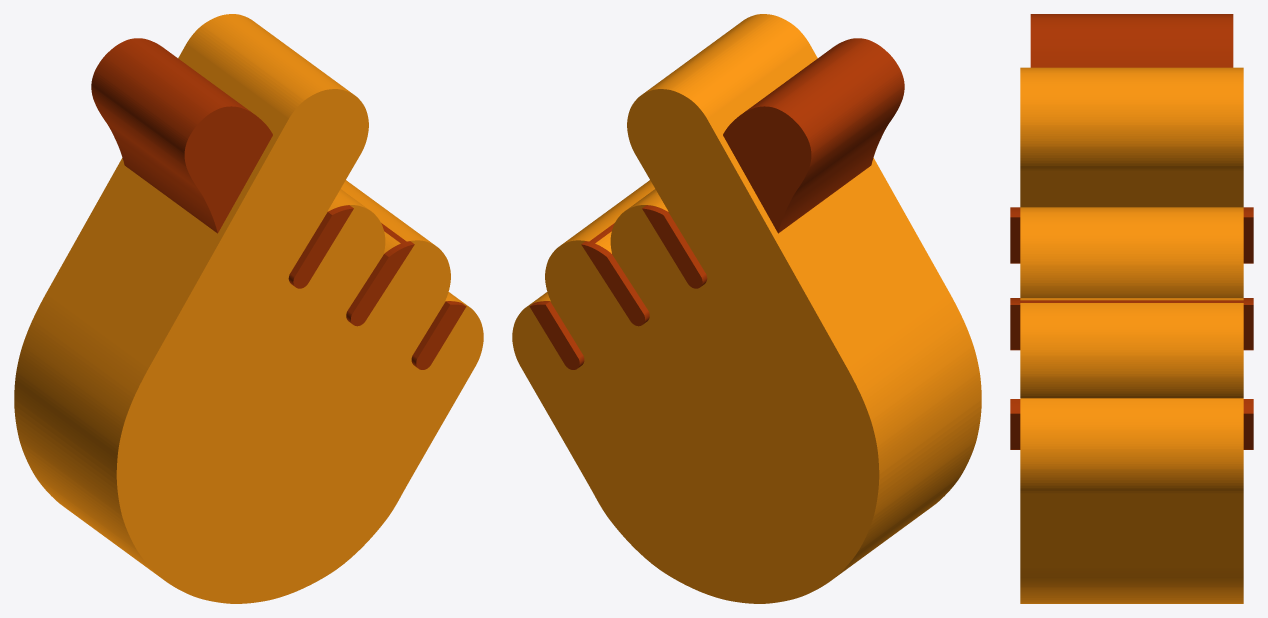
The model's file is U+1FAF0.obj.
3 renders of one model, left to right at view 1: azimuth 30°, elevation 25°; view 2: azimuth 150°, elevation 25°; view 3: azimuth 270°, elevation 25°, orthographic. The views are drawn at different scales.
Visible parts, largest first — view 1: U+1FAF0_layer01_obj00, U+1FAF0_layer00_obj00, U+1FAF0_layer02_obj00; view 2: U+1FAF0_layer01_obj00, U+1FAF0_layer00_obj00, U+1FAF0_layer02_obj00; view 3: U+1FAF0_layer01_obj00, U+1FAF0_layer00_obj00, U+1FAF0_layer02_obj00.
Boxes of the visible parts, left/top/right/bottom form: U+1FAF0_layer01_obj00: left=14, top=14, right=483, bottom=603; U+1FAF0_layer00_obj00: left=91, top=38, right=272, bottom=233; U+1FAF0_layer02_obj00: left=288, top=205, right=466, bottom=369; U+1FAF0_layer01_obj00: left=512, top=14, right=981, bottom=603; U+1FAF0_layer00_obj00: left=723, top=38, right=904, bottom=233; U+1FAF0_layer02_obj00: left=529, top=205, right=707, bottom=369; U+1FAF0_layer01_obj00: left=1020, top=67, right=1243, bottom=603; U+1FAF0_layer00_obj00: left=1030, top=14, right=1233, bottom=67; U+1FAF0_layer02_obj00: left=1010, top=207, right=1253, bottom=449.
Size of the model in its own units: 0.4547 by 0.5914 by 0.24.
